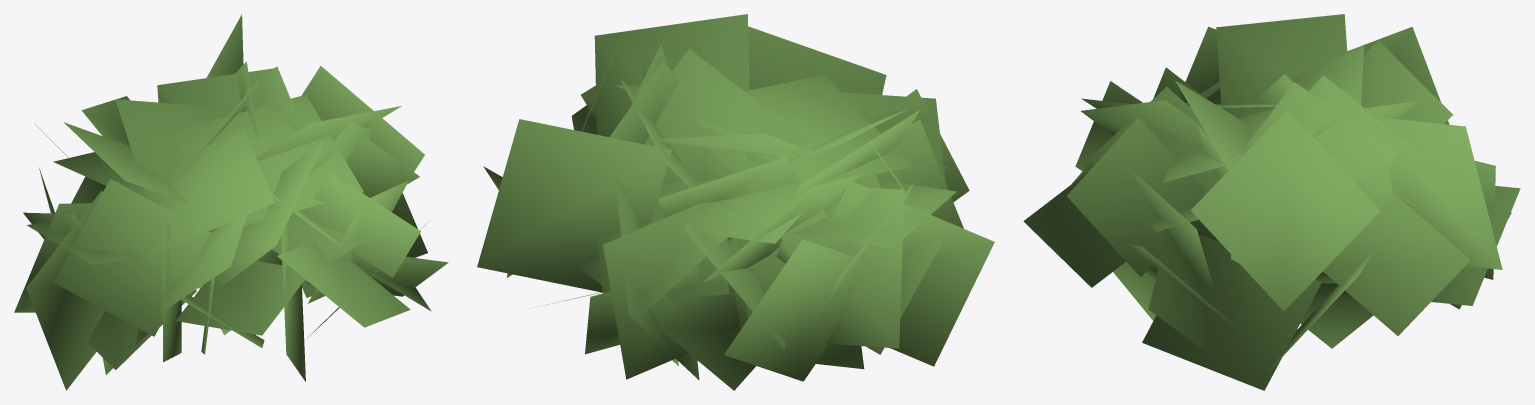
The model's file is shrub_0.glb.
The picture shows the model from 3 angles, left to right: view 1: azimuth 30°, elevation 25°; view 2: azimuth 150°, elevation 25°; view 3: azimuth 270°, elevation 25°; orthographic projection. The views are drawn at different scales.
Parts seen in each view (by area): view 1: Leaves_Crown; view 2: Leaves_Crown; view 3: Leaves_Crown.
Boxes of the visible parts, x1,y1,x2,y2 form: Leaves_Crown: (14, 14, 448, 390); Leaves_Crown: (477, 14, 994, 390); Leaves_Crown: (1023, 14, 1520, 390).
Size of the model in its own units: 4.27 by 2.68 by 4.24.
